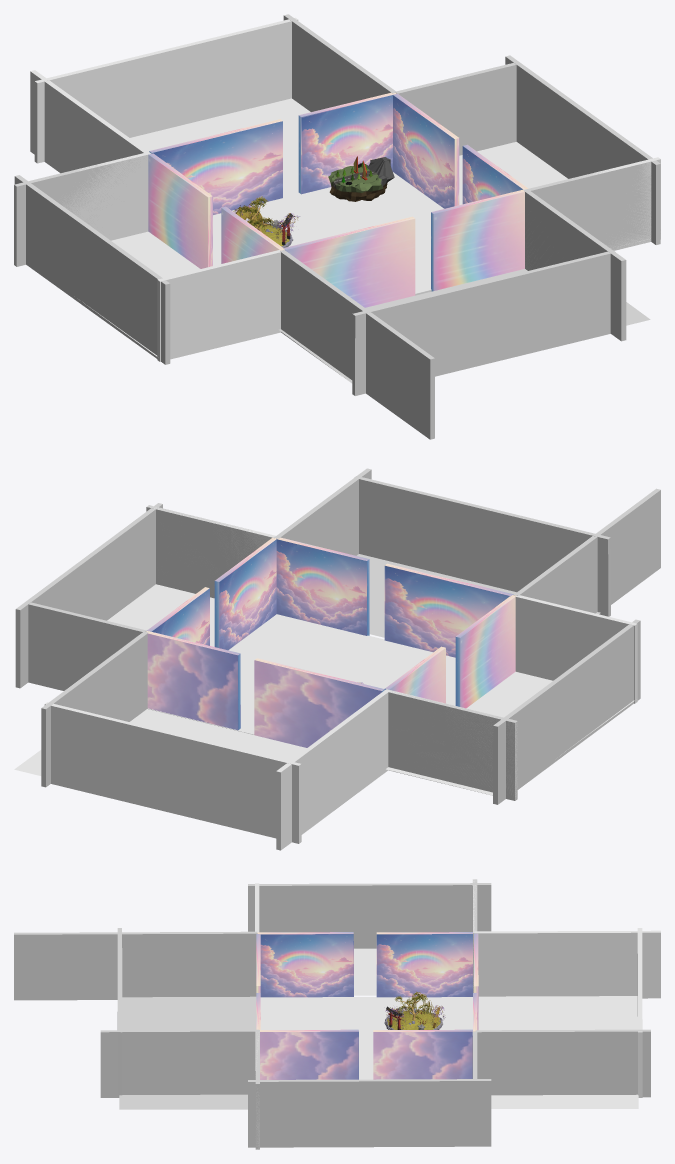
File: WORLD.glb
3 renders of one model, top to bottom at view 1: azimuth 30°, elevation 25°; view 2: azimuth 150°, elevation 25°; view 3: azimuth 270°, elevation 25°, orthographic. The views are drawn at different scales.
Parts seen in each view (by area): view 1: Cube.096, Cube.008, Cube.073, Cube.011, Cube.010, Cube.072, Cube.020, Cube.018, Cube.017, Cube.002, Cube.004, west-wall3 (+22 smaller); view 2: Cube.008, Cube.096, Cube.073, Cube.020, Cube.005, Cube.003, Cube.010, Cube.011, Cube.018, Cube.019, Cube.017, Cube.002 (+22 smaller); view 3: Cube.010, Cube.011, Cube.073, Cube.003, Cube.067, Cube.087, path2OppositeGround.002, Cube.020, southGround, Cube.014, Cube.015, Cube.012 (+6 smaller).
Part boxes in pixels (<box>): Cube.096: <box>352,250,615,395</box>; Cube.008: <box>34,17,298,163</box>; Cube.073: <box>14,175,170,364</box>; Cube.011: <box>280,250,434,439</box>; Cube.010: <box>505,55,660,244</box>; Cube.072: <box>157,250,280,361</box>; Cube.020: <box>213,172,443,295</box>; Cube.018: <box>283,216,415,307</box>; Cube.017: <box>395,63,516,155</box>; Cube.002: <box>524,162,660,250</box>; Cube.004: <box>298,92,396,194</box>; west-wall3: <box>158,250,280,361</box>; Cube.008: <box>44,702,301,843</box>; Cube.096: <box>354,476,610,616</box>; Cube.073: <box>493,619,640,804</box>; Cube.020: <box>147,614,455,734</box>; Cube.005: <box>387,689,517,800</box>; Cube.003: <box>276,689,389,850</box>; Cube.010: <box>15,503,162,688</box>; Cube.011: <box>514,488,660,613</box>; Cube.018: <box>384,563,513,657</box>; Cube.019: <box>254,658,384,747</box>; Cube.017: <box>28,602,146,690</box>; Cube.002: <box>146,505,270,598</box>; Cube.010: <box>248,1079,491,1147</box>; Cube.011: <box>14,931,257,1000</box>; Cube.073: <box>248,883,491,948</box>; Cube.003: <box>474,930,660,998</box>; Cube.067: <box>475,1029,650,1097</box>; Cube.087: <box>100,1029,259,1097</box>; path2OppositeGround.002: <box>478,996,638,1108</box>; Cube.020: <box>260,997,472,1079</box>; southGround: <box>119,996,256,1109</box>; Cube.014: <box>376,932,472,997</box>; Cube.015: <box>257,932,353,997</box>; Cube.012: <box>373,1029,472,1079</box>.
Bounding box in the file's own units: 212 × 39.75 × 284.
99 materials, 88 textured.
